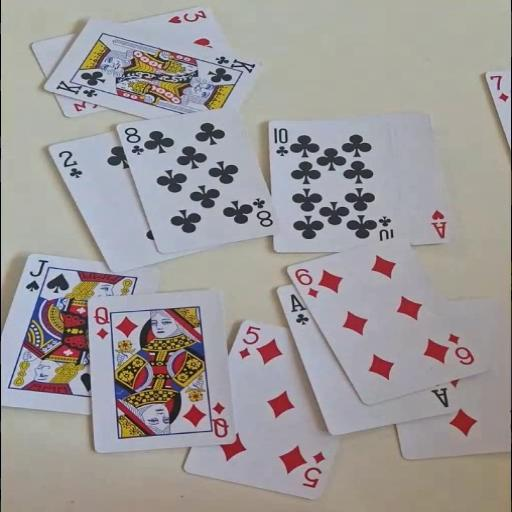10: (272, 126, 290, 157)
2: (55, 148, 84, 179)
3: (165, 8, 208, 24)
5: (299, 449, 328, 490), (236, 323, 263, 360)
6: (445, 331, 476, 366), (292, 266, 320, 299)
7: (488, 74, 510, 102)
8: (250, 196, 274, 228), (122, 125, 144, 156)
A: (428, 208, 448, 239)
J: (22, 258, 49, 292)
K: (53, 77, 103, 99)
Q: (208, 400, 230, 438), (92, 305, 110, 340)
